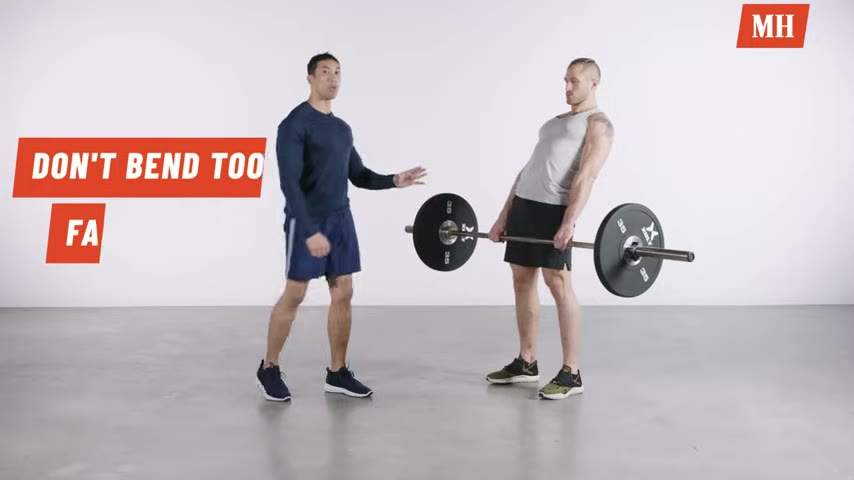barbell_plate_side: (624, 198, 696, 302), (402, 184, 479, 277)
